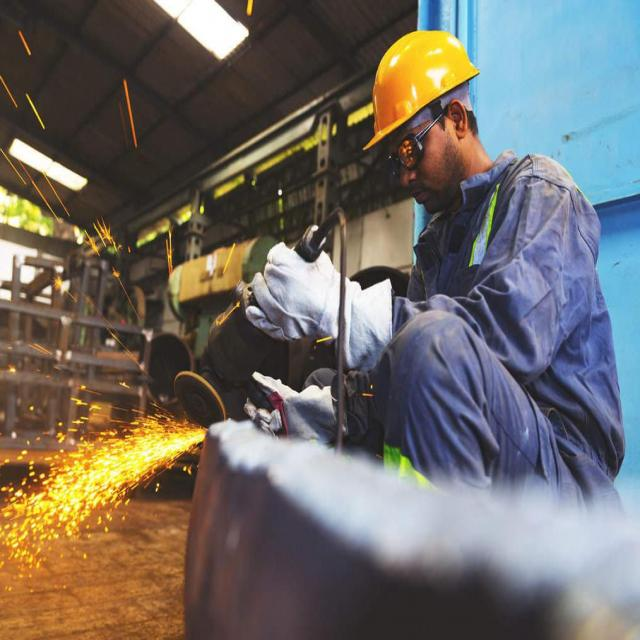Safety-Helmet: (363, 27, 480, 149)
